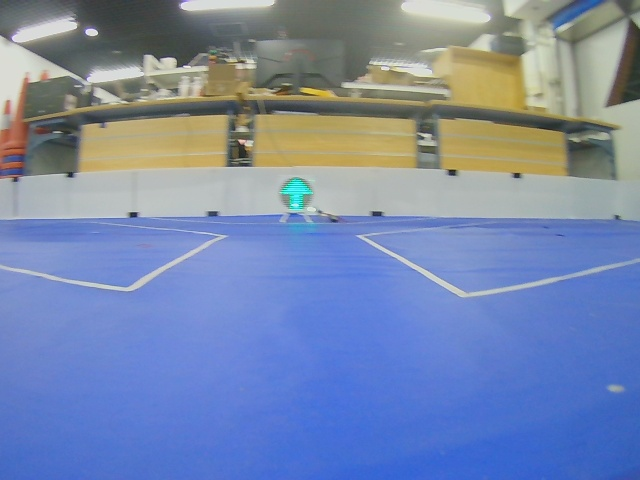straight_green: (279, 177, 314, 212)
